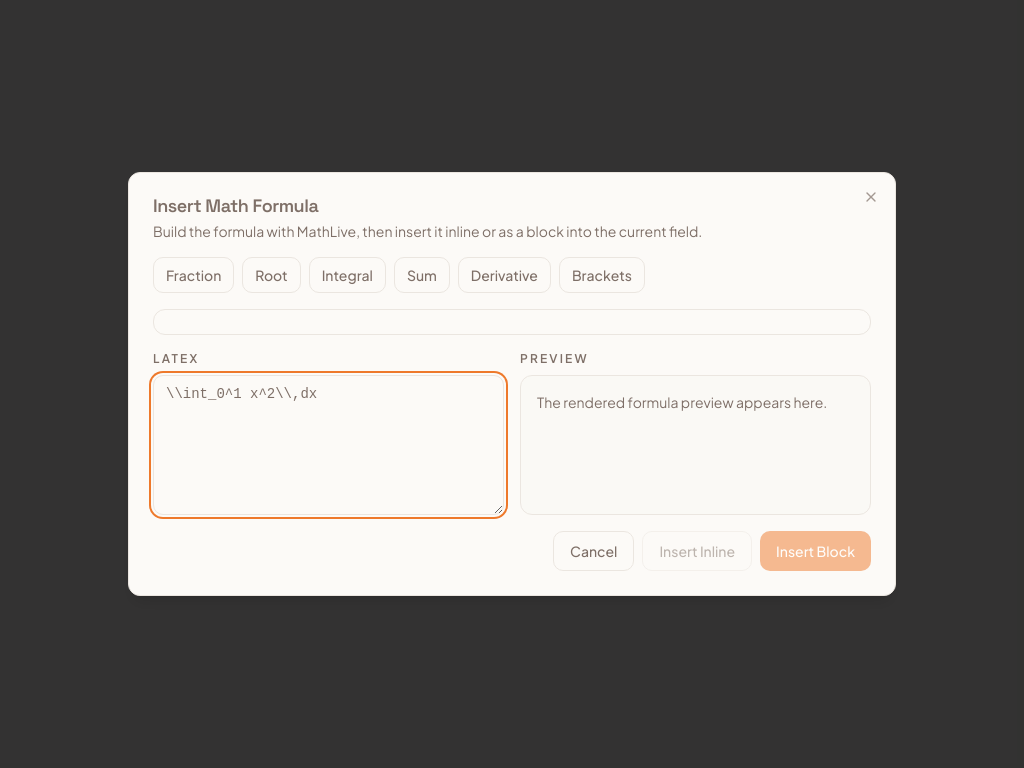
Test case: MathFormulaDialog › keeps the dialog open and updates latex when a formula snippet is inserted
Click the button "Fraction".
click(194, 275)  # box x1=153 y1=257 x2=234 y2=293
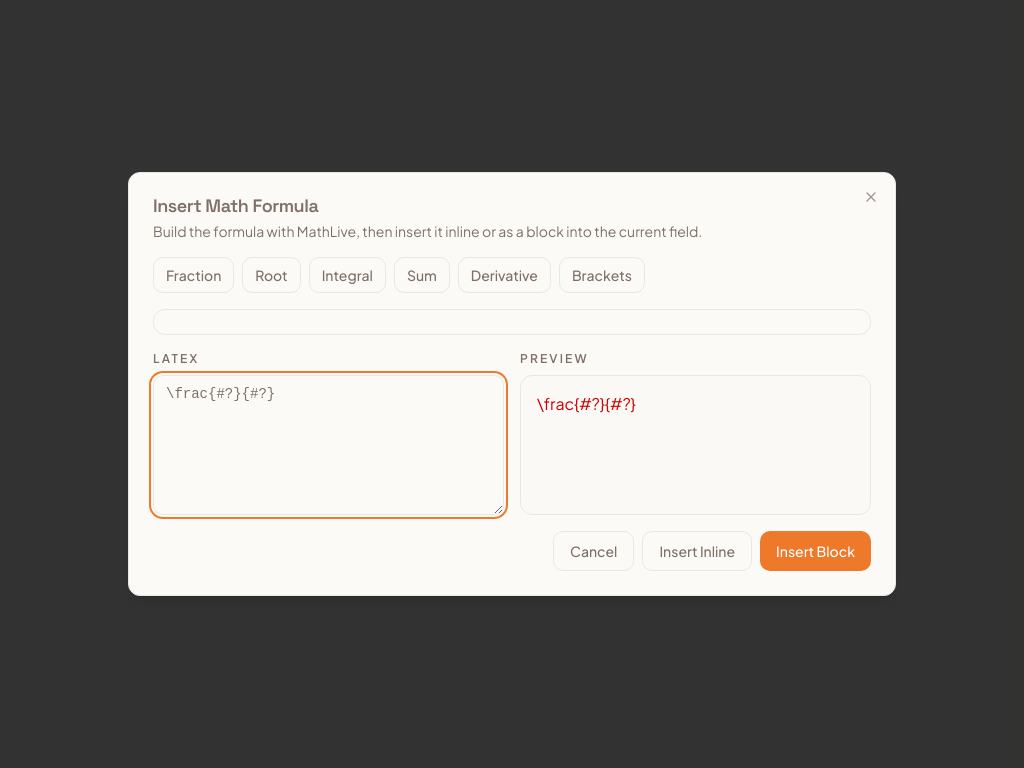
Check: the text box holds "\\frac{#?}{#?}", box x1=153 y1=375 x2=504 y2=515
